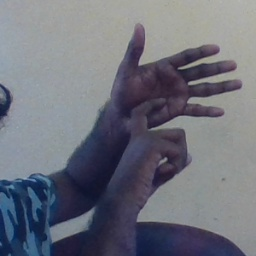R: (95, 21, 245, 179)
